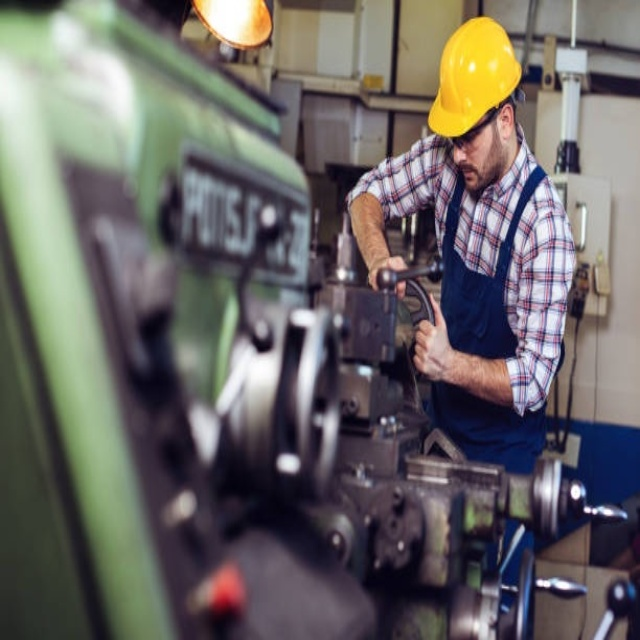Gafas: (450, 97, 510, 152)
Sin_guantes: (412, 290, 456, 380)
Sin_mascara: (457, 158, 482, 191)
